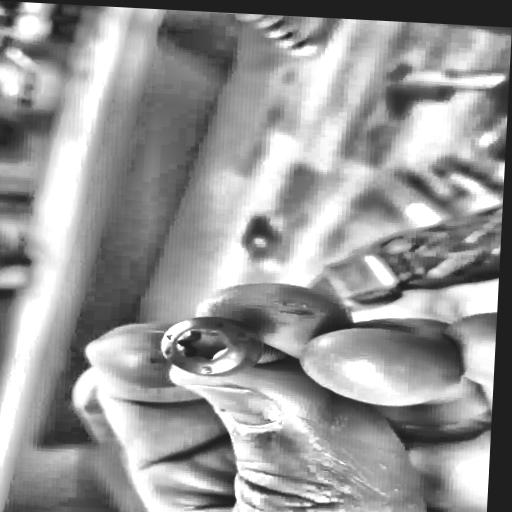nut: (154, 310, 275, 380)
